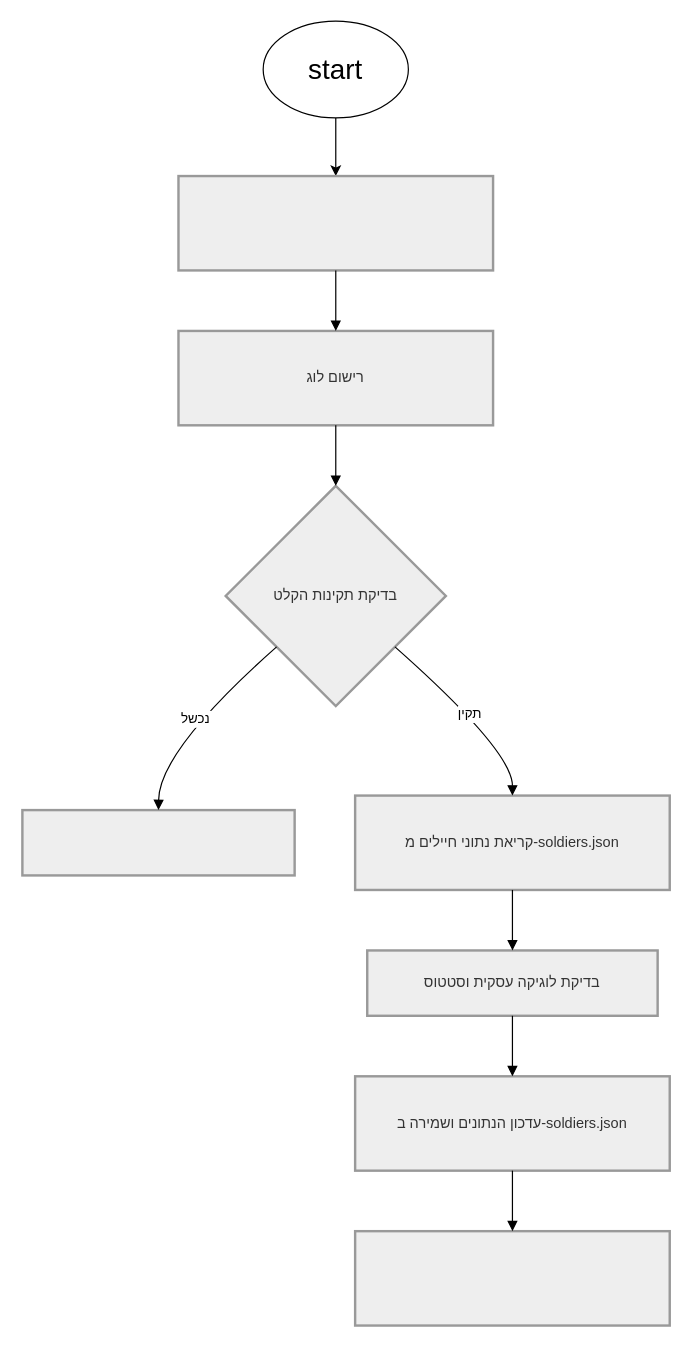
The diagram is 691 pixels wide and 1348 high, and some of its shapes have lost their labels. The shapes that lost their labels are listed below. From the top down, each one's centre as x and y in pixels, then its label:
At (335,222): "קבלת בקשה מהקליינט".
At (158,842): "החזרת שגיאה 400 ועצירה".
At (511,1277): "החזרת תשובה 200/201 לקליינט".
